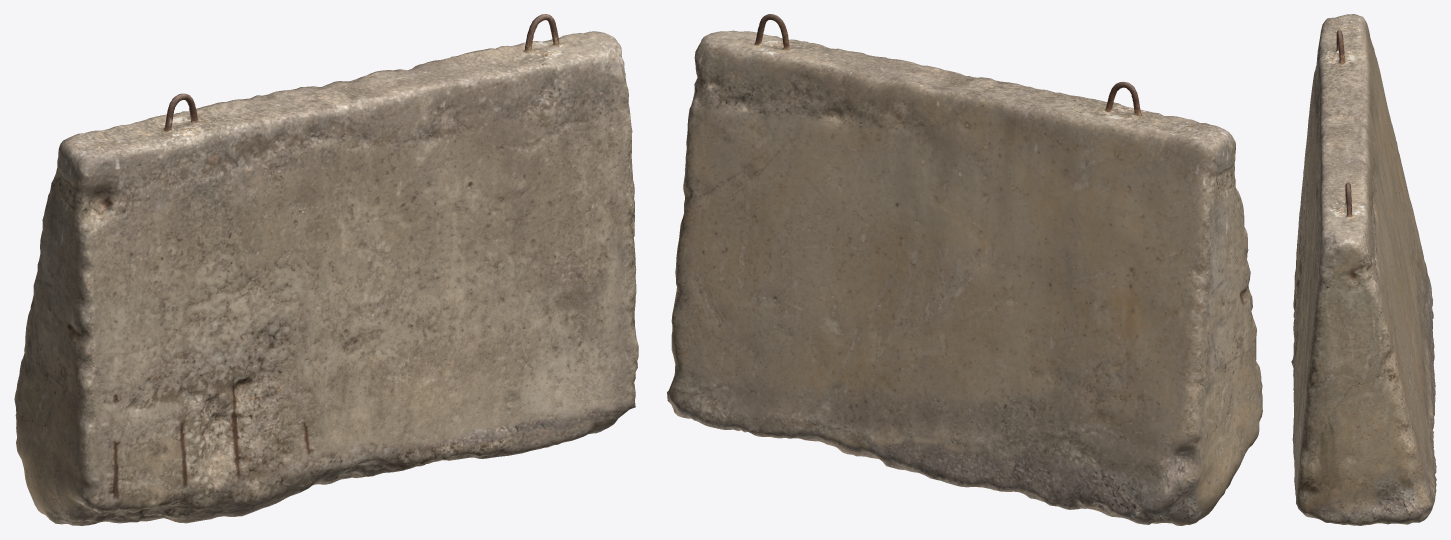
The model's file is concrete_road_barrier_02.glb.
The picture shows the model from 3 angles, left to right: view 1: azimuth 30°, elevation 25°; view 2: azimuth 150°, elevation 25°; view 3: azimuth 270°, elevation 25°; orthographic projection. The views are drawn at different scales.
Parts seen in each view (by area): view 1: concrete_road_barrier_02; view 2: concrete_road_barrier_02; view 3: concrete_road_barrier_02.
Part boxes in pixels (x1=…): concrete_road_barrier_02: x1=14, y1=14, x2=638, y2=525; concrete_road_barrier_02: x1=667, y1=14, x2=1262, y2=525; concrete_road_barrier_02: x1=1291, y1=14, x2=1436, y2=525.
Size of the model in its own units: 1.57 by 1.11 by 0.4421.
Materials: 1 (1 with a texture image).
